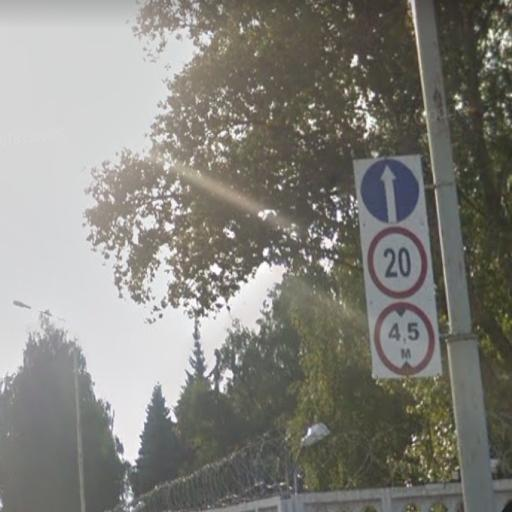traffic_sign: (366, 222, 432, 303)
